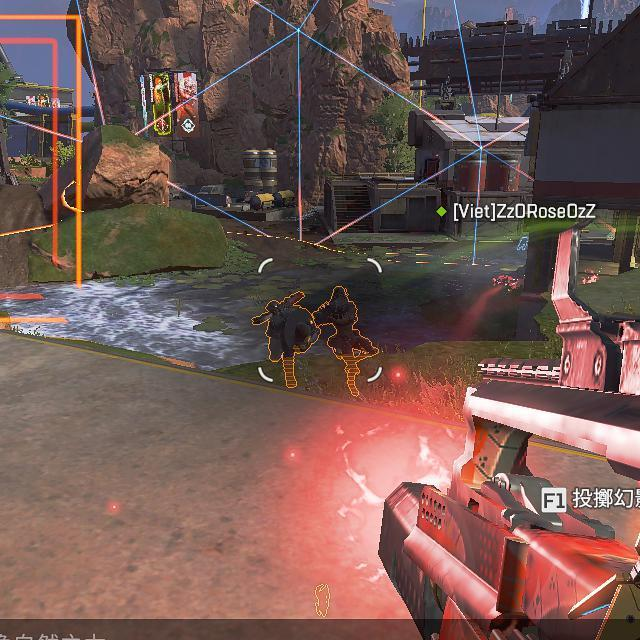avatar: (312, 283, 381, 399), (262, 290, 324, 389)
